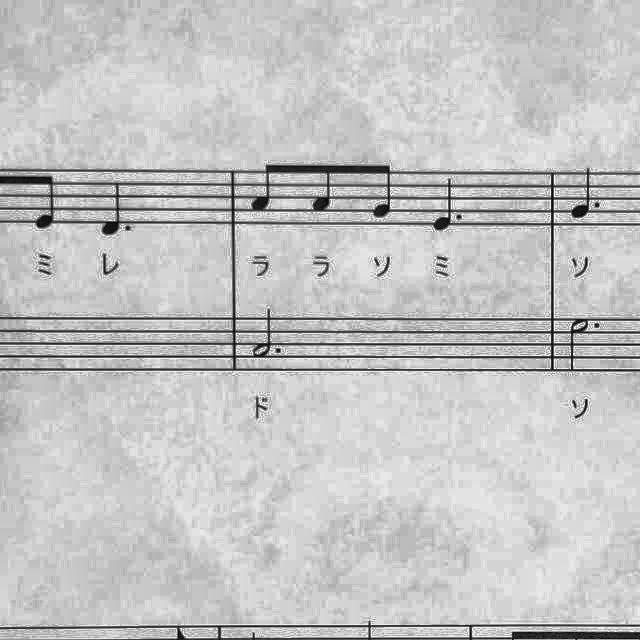Eighth-note: (27, 167, 64, 237), (308, 156, 344, 222), (248, 158, 284, 222), (365, 160, 395, 228)
Half-dot: (565, 312, 607, 376), (250, 307, 290, 365)
Quarter-dot: (428, 169, 477, 237), (566, 160, 606, 228), (98, 180, 138, 240)
